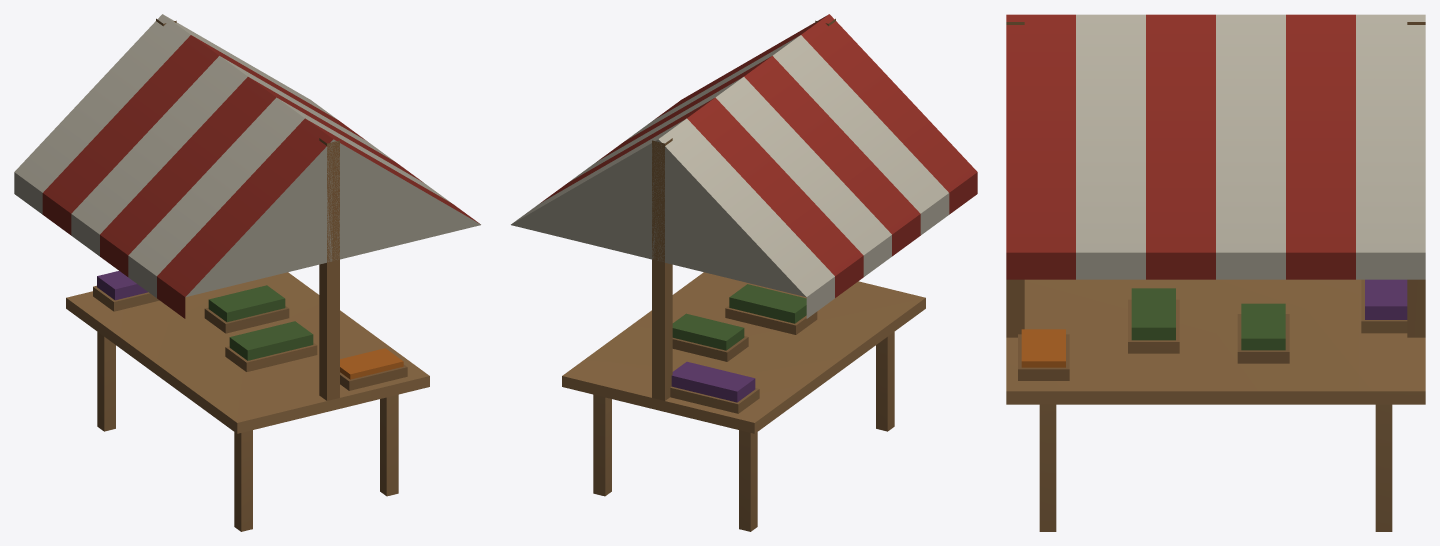
The model's file is stall.market.red.glb.
3 views of the same model, side by side, from view 1: azimuth 30°, elevation 25°; view 2: azimuth 150°, elevation 25°; view 3: azimuth 270°, elevation 25° (orthographic). The views are drawn at different scales.
Visible parts, largest first — view 1: stall_market_red; view 2: stall_market_red; view 3: stall_market_red.
Boxes of the visible parts, <box> form: stall_market_red: <box>14,14,480,531</box>; stall_market_red: <box>511,14,977,531</box>; stall_market_red: <box>1006,14,1425,531</box>.
Size of what is drawn, in the model's own units: 2.26 by 2.8 by 2.26.
